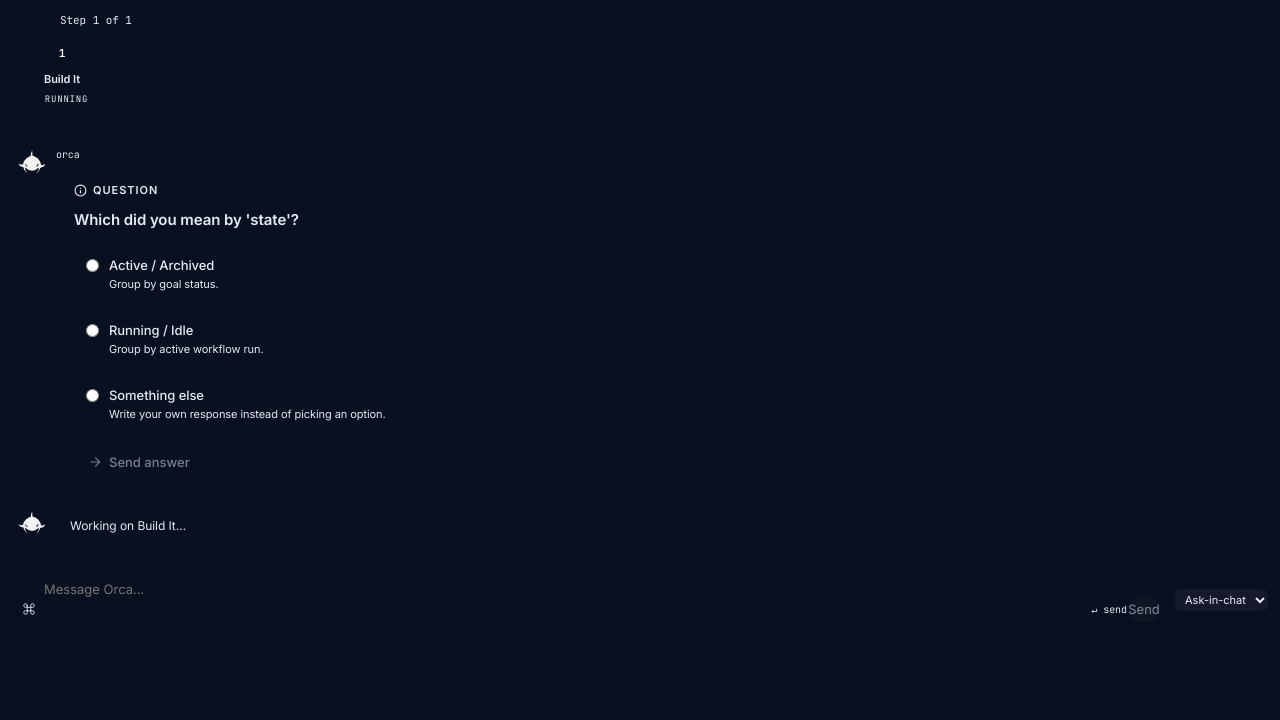
Test: OrcaChat › answers an orchestrator ask_user via the orchestrator-answer endpoint, with no user bubble and a Thinking row
The width and height of the screenshot is (1280, 720).
Expected: the text "Which did you mean by 'state'?" is shown, [74,210,299,229]
Click the radio button labelled "Active / Archived" at point(92, 266), box [86,259,99,272]
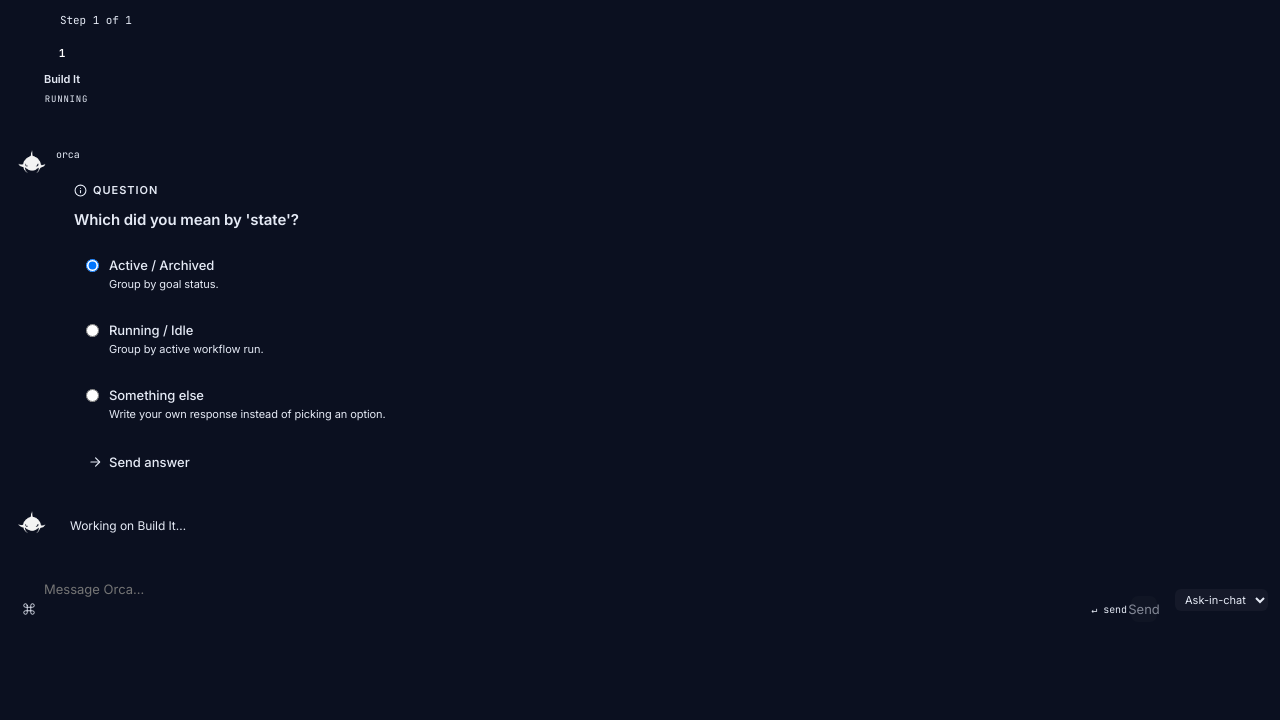
Click the button "Send answer" at point(139, 462), box [74,446,204,478]
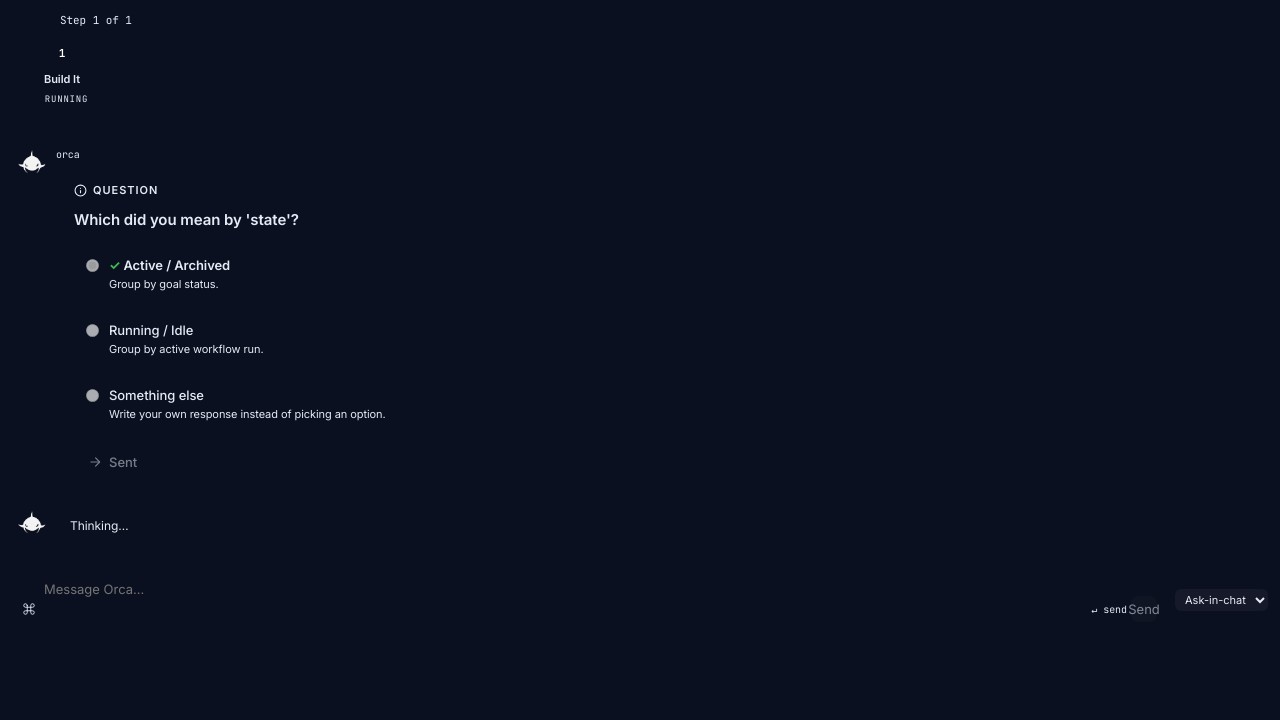
Expected: the element with test id "answer-thinking" is shown, [18,508,129,536]
